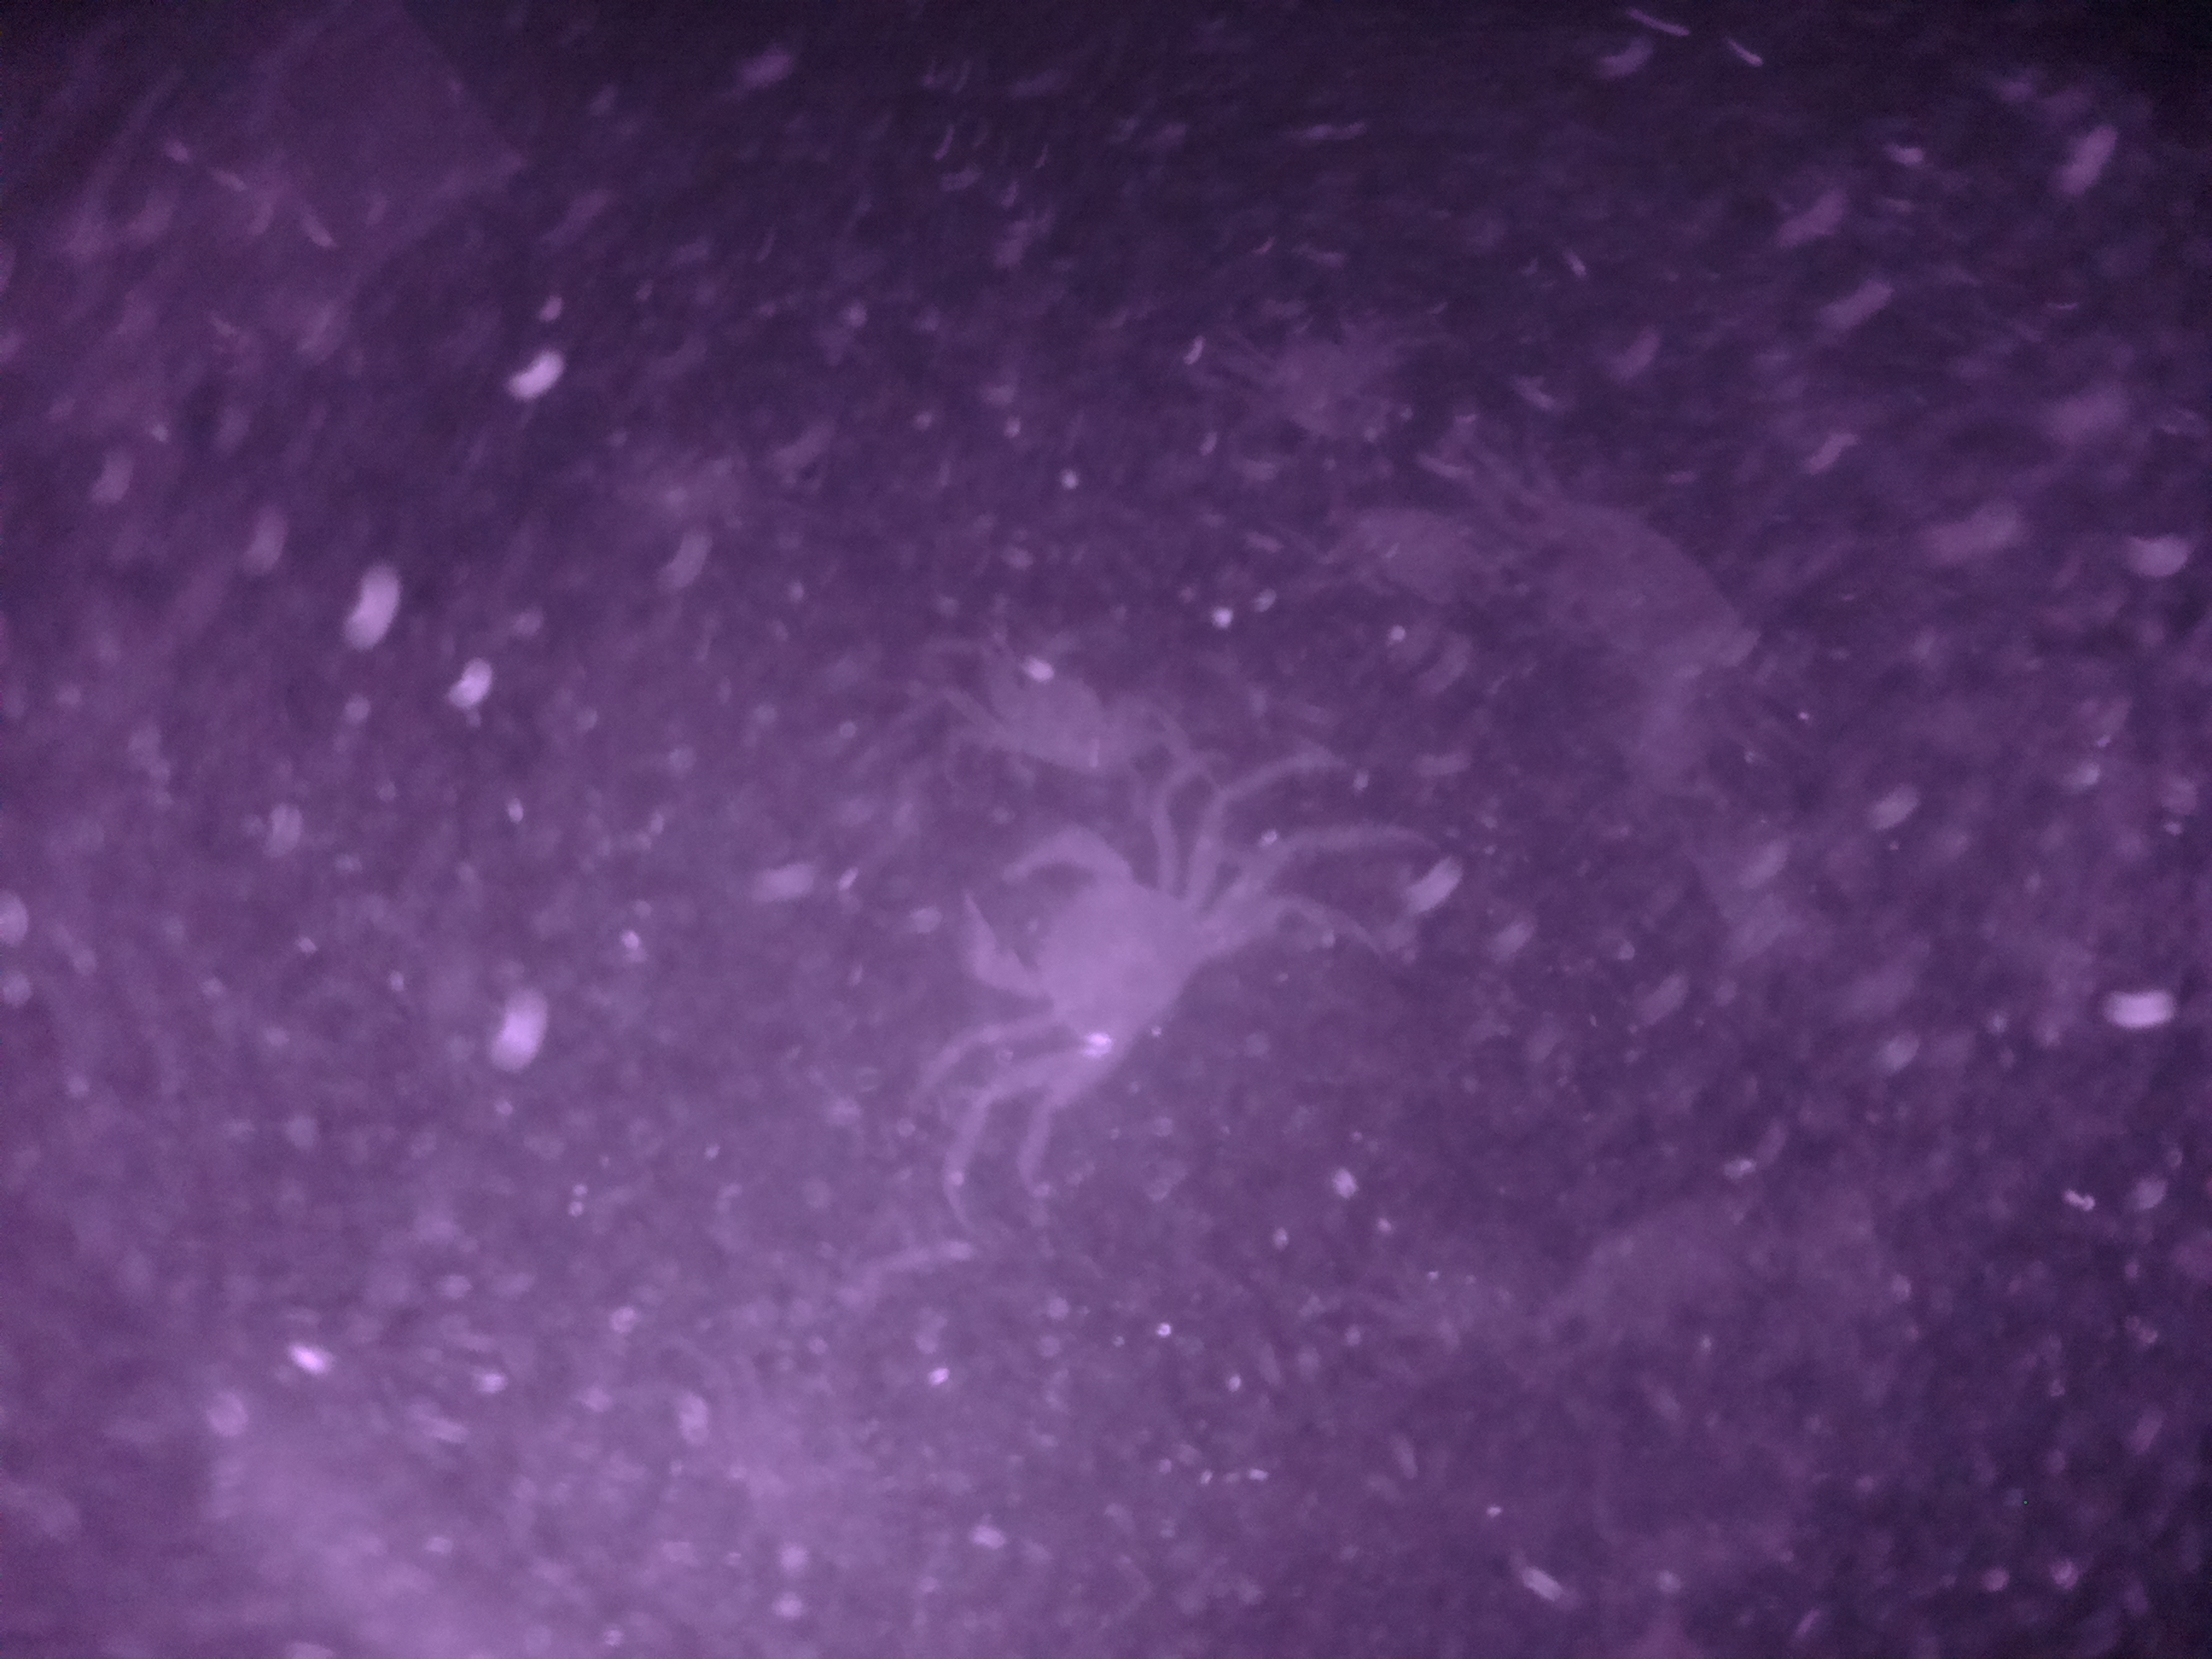Crab: (935, 816, 1224, 1108)
